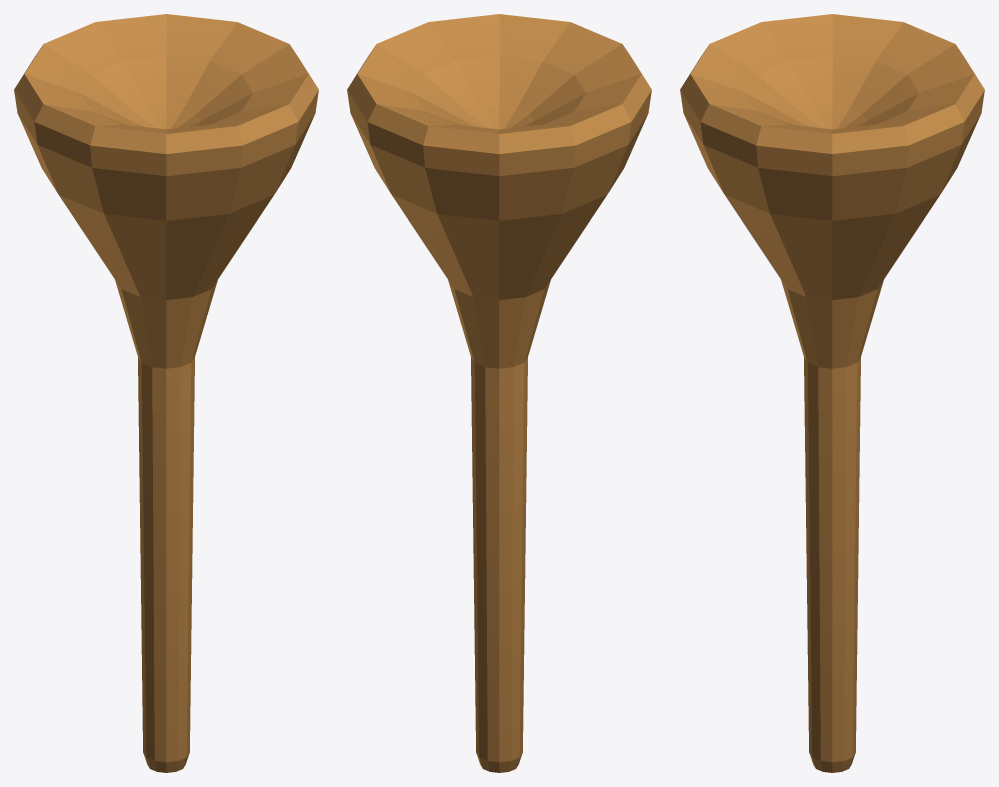
File: tee_marker_tee_gold.glb
3 renders of one model, left to right at view 1: azimuth 30°, elevation 25°; view 2: azimuth 150°, elevation 25°; view 3: azimuth 270°, elevation 25°, orthographic.
Parts seen in each view (by area): view 1: Body; view 2: Body; view 3: Body.
Part boxes in pixels (<box>): Body: <box>14,14,318,772</box>; Body: <box>347,14,651,772</box>; Body: <box>680,14,984,772</box>.
Size of the model in its own units: 0.176 by 0.44 by 0.176.
1 material, 1 textured.
